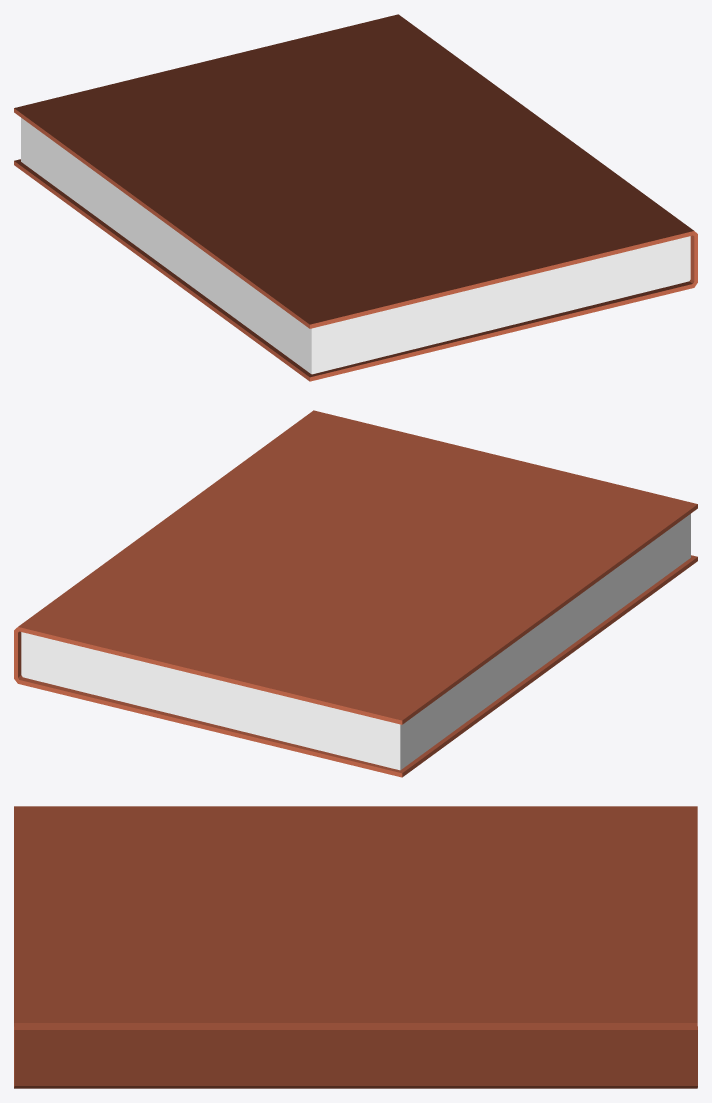
Rendered from Book 11.fbx.
The picture shows the model from 3 angles, top to bottom: view 1: azimuth 30°, elevation 25°; view 2: azimuth 150°, elevation 25°; view 3: azimuth 270°, elevation 25°; orthographic projection. The views are drawn at different scales.
Parts seen in each view (by area): view 1: Node 0; view 2: Node 0; view 3: Node 0.
Boxes of the visible parts, x1=… form: Node 0: x1=14, y1=14, x2=697, y2=381; Node 0: x1=14, y1=410, x2=697, y2=777; Node 0: x1=14, y1=806, x2=697, y2=1088.
Bounding box in the file's own units: 0.2563 × 0.0272 × 0.194.
